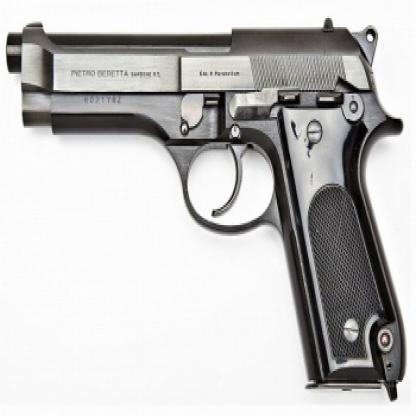Guns: (2, 14, 408, 402)
